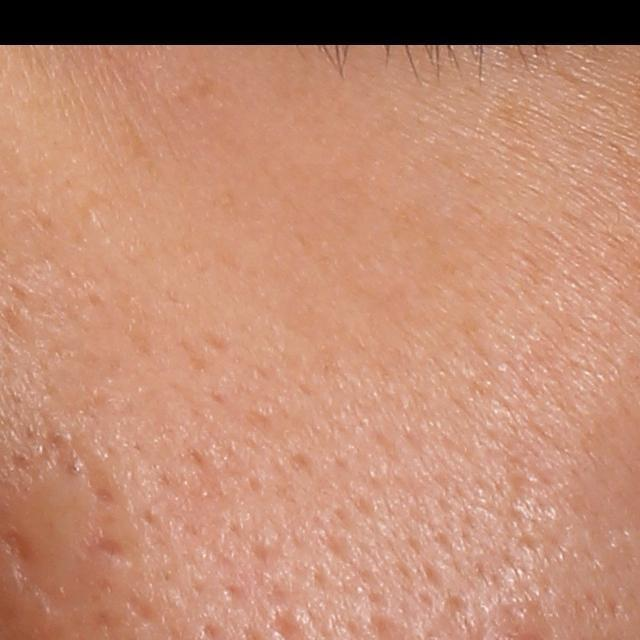atrophic_scar: (89, 528, 133, 559), (1, 528, 33, 567)
